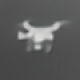plane: (16, 18, 72, 55)
